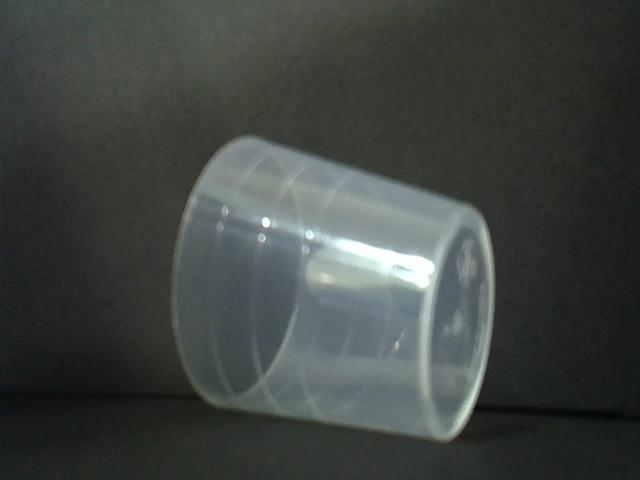cup: (168, 127, 500, 445)
